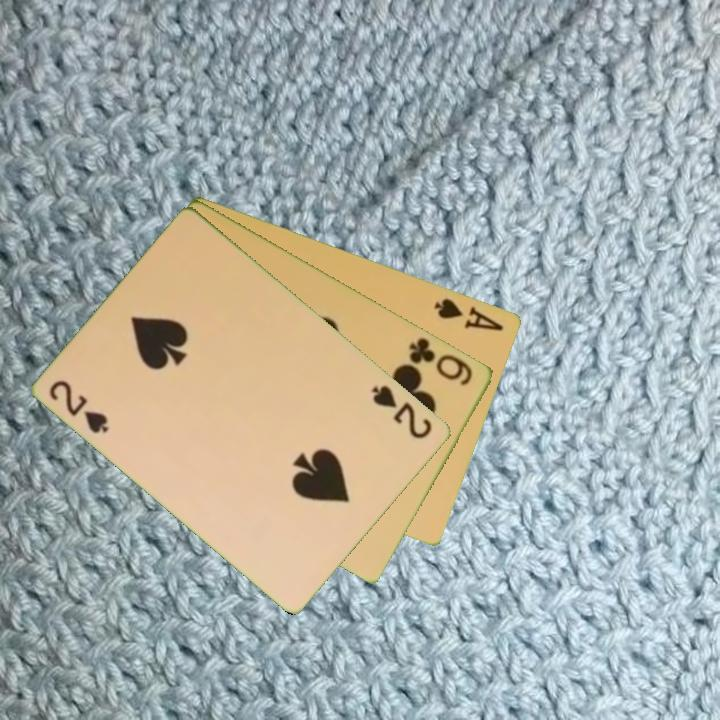2s: (369, 381, 436, 442), (46, 376, 113, 437)
6c: (405, 333, 476, 388)
As: (431, 294, 508, 334)
